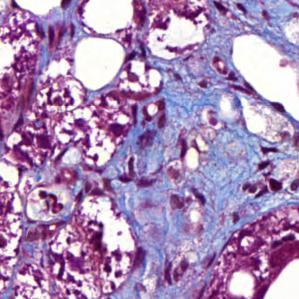steatosis: (258, 257, 299, 299)
